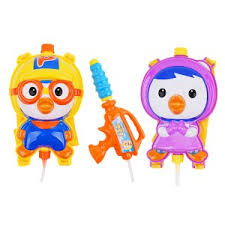Petty: (138, 46, 217, 172)
Pororo: (8, 42, 85, 168)
